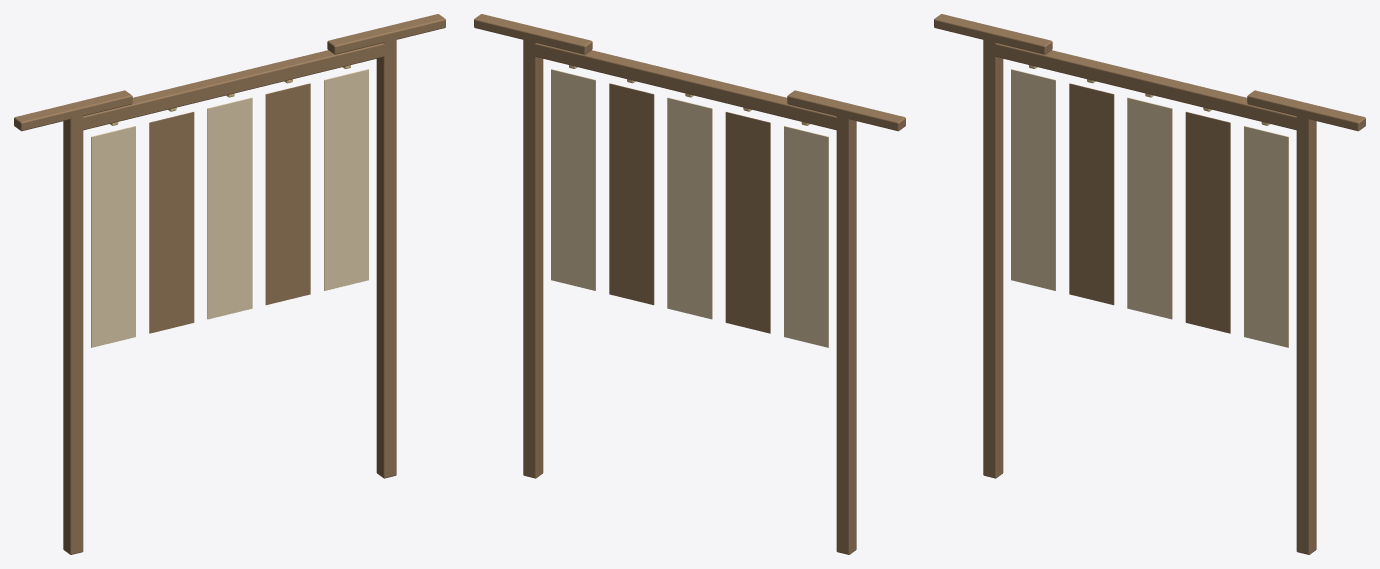
Rendered from marquetry-and-veneer-inlay-workshop-hanging-veneer-fli-4dace25f__39088.glb.
3 views of the same model, side by side, from view 1: azimuth 30°, elevation 25°; view 2: azimuth 150°, elevation 25°; view 3: azimuth 330°, elevation 25° (orthographic).
Visible parts, largest first — view 1: hanging-veneer-flitch-rack; view 2: hanging-veneer-flitch-rack; view 3: hanging-veneer-flitch-rack.
Part boxes in pixels (x1,y1,x2,y2): hanging-veneer-flitch-rack: (14,14,445,554); hanging-veneer-flitch-rack: (474,14,905,554); hanging-veneer-flitch-rack: (934,14,1365,554).
Bounding box in the file's own units: 1.9 × 1.9 × 0.0601.
